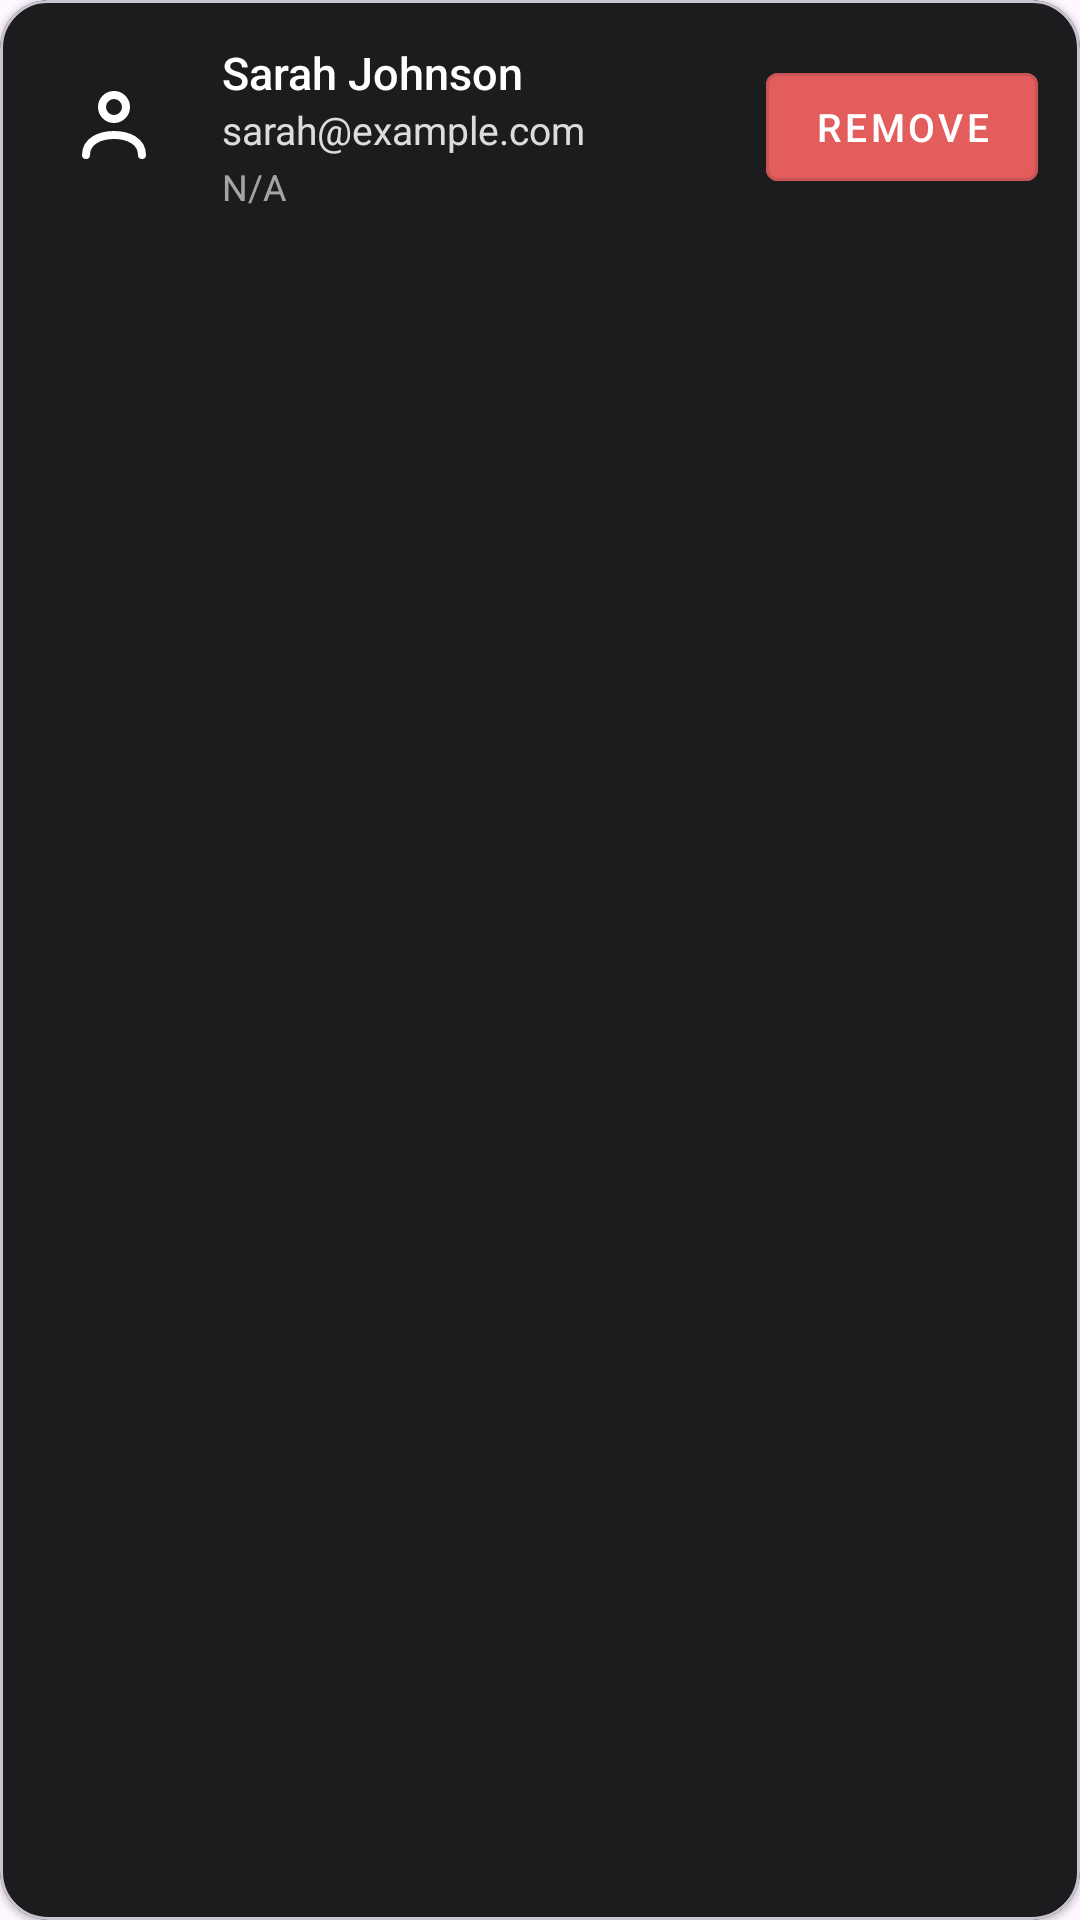

Named icons in this screenshot (1080 × 1920) and their centers, (x=x, y=y):
person: (x=114, y=125)
